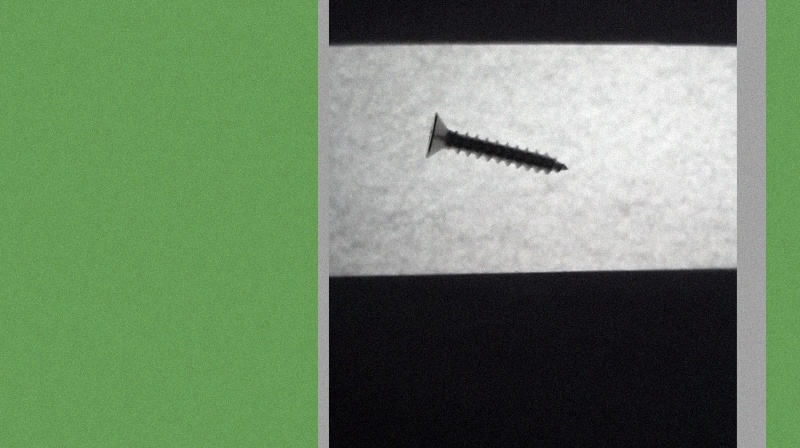S001: (420, 109, 570, 175)
